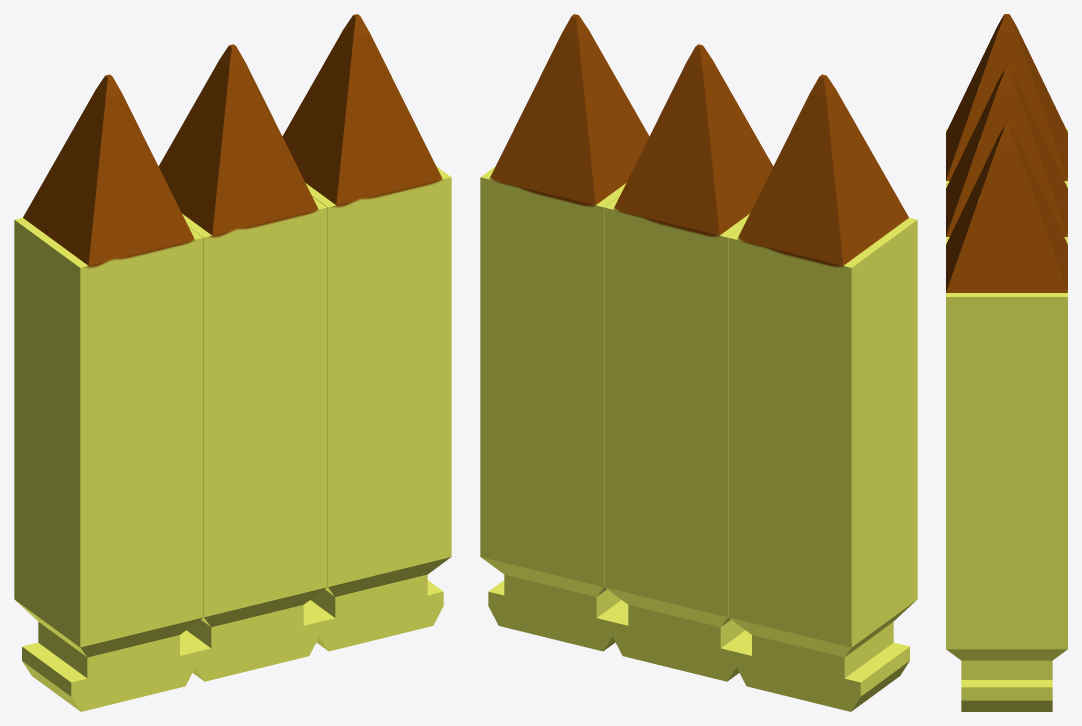
Rendered from ammo.fbx.
The picture shows the model from 3 angles, left to right: view 1: azimuth 30°, elevation 25°; view 2: azimuth 150°, elevation 25°; view 3: azimuth 270°, elevation 25°; orthographic projection. The views are drawn at different scales.
Visible parts, largest first — view 1: Cube, Cube.002, Cube.001; view 2: Cube, Cube.002, Cube.001; view 3: Cube.002, Cube.001, Cube.
Boxes of the visible parts, x1,y1,x2,y2 form: Cube: [14, 74, 203, 711]; Cube.002: [282, 14, 451, 651]; Cube.001: [158, 44, 327, 681]; Cube: [728, 74, 917, 711]; Cube.002: [480, 14, 649, 651]; Cube.001: [604, 44, 773, 681]; Cube.002: [946, 126, 1067, 711]; Cube.001: [946, 70, 1067, 240]; Cube: [946, 14, 1067, 184].
Size of the model in its own units: 160 by 248 by 48.82.
4 materials, 4 textured.
